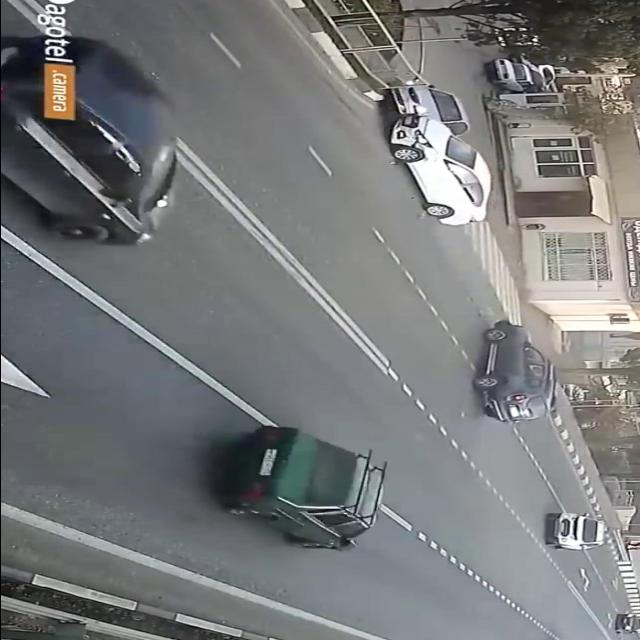accident: (367, 76, 497, 232)
